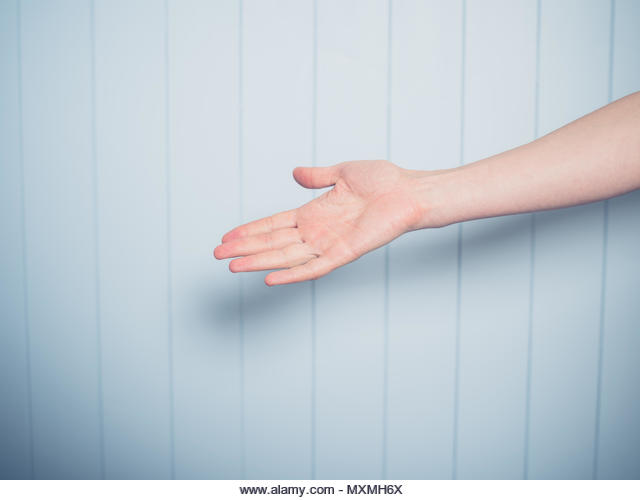non-diseased: (213, 151, 431, 288)
